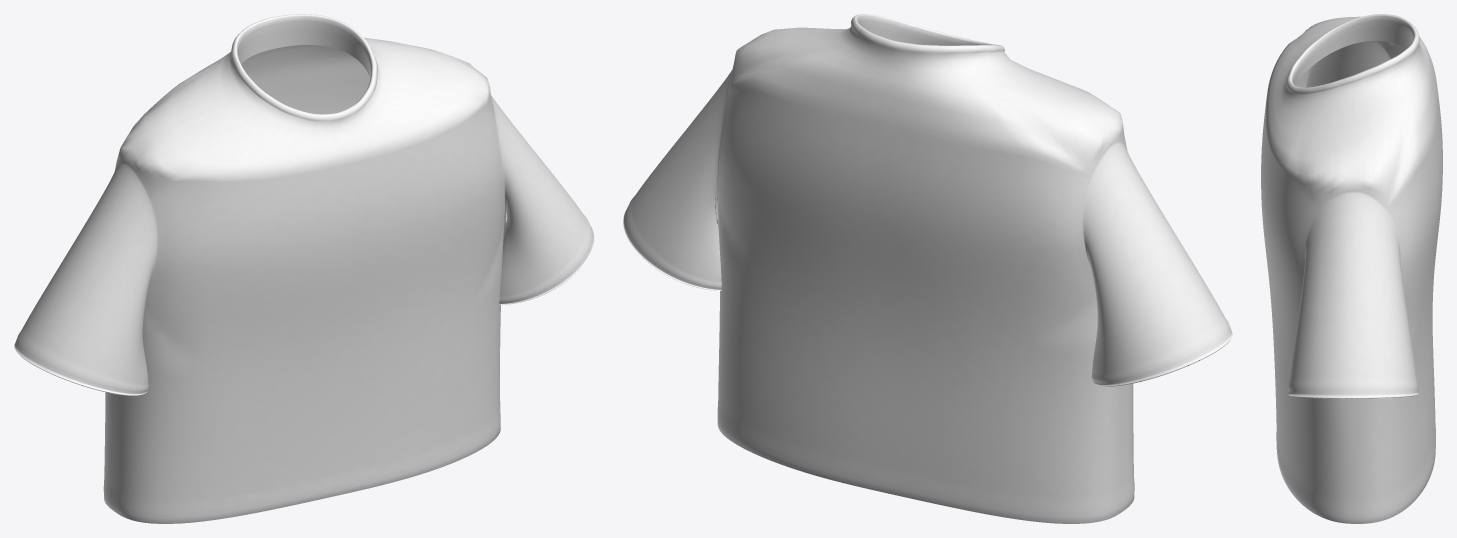
Rendered from boxy_tshirt.glb.
3 views of the same model, side by side, from view 1: azimuth 30°, elevation 25°; view 2: azimuth 150°, elevation 25°; view 3: azimuth 270°, elevation 25° (orthographic). The views are drawn at different scales.
Visible parts, largest first — view 1: BoxyTShirt; view 2: BoxyTShirt; view 3: BoxyTShirt.
Part boxes in pixels (x1,y1,x2,y2): BoxyTShirt: (14,14,594,523); BoxyTShirt: (623,14,1232,523); BoxyTShirt: (1261,14,1442,523).
Size of the model in its own units: 0.8642 by 0.6256 by 0.2566.
Materials: 1 (1 with a texture image).
